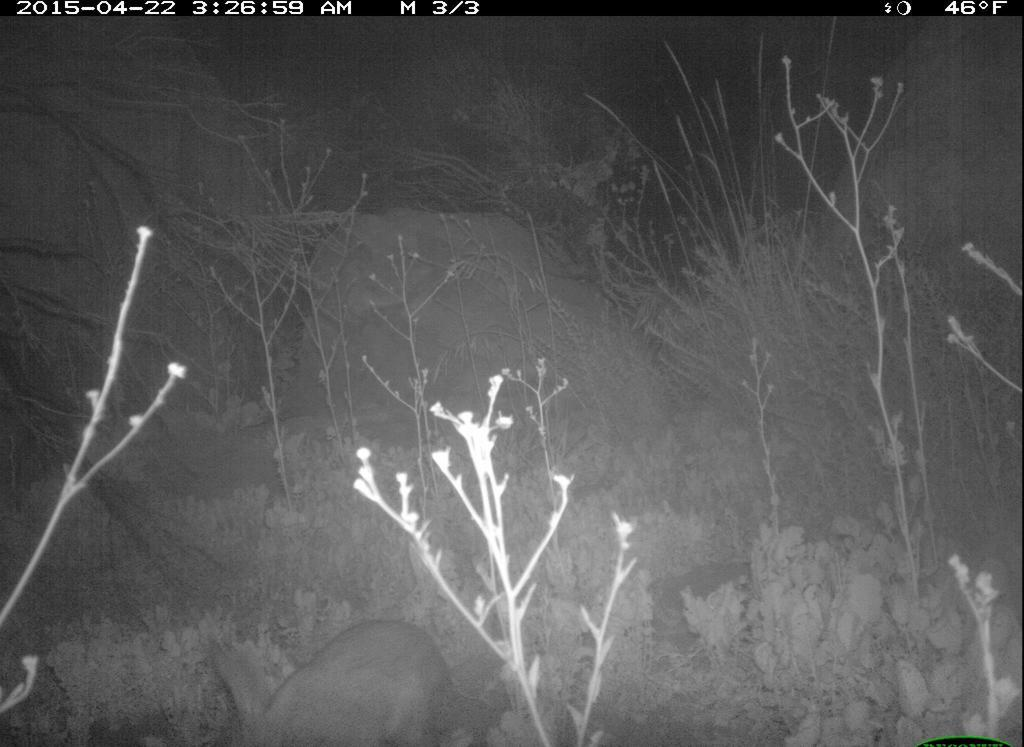rabbit: (205, 615, 463, 747)
